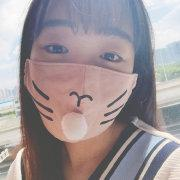OK: (24, 22, 144, 142)
